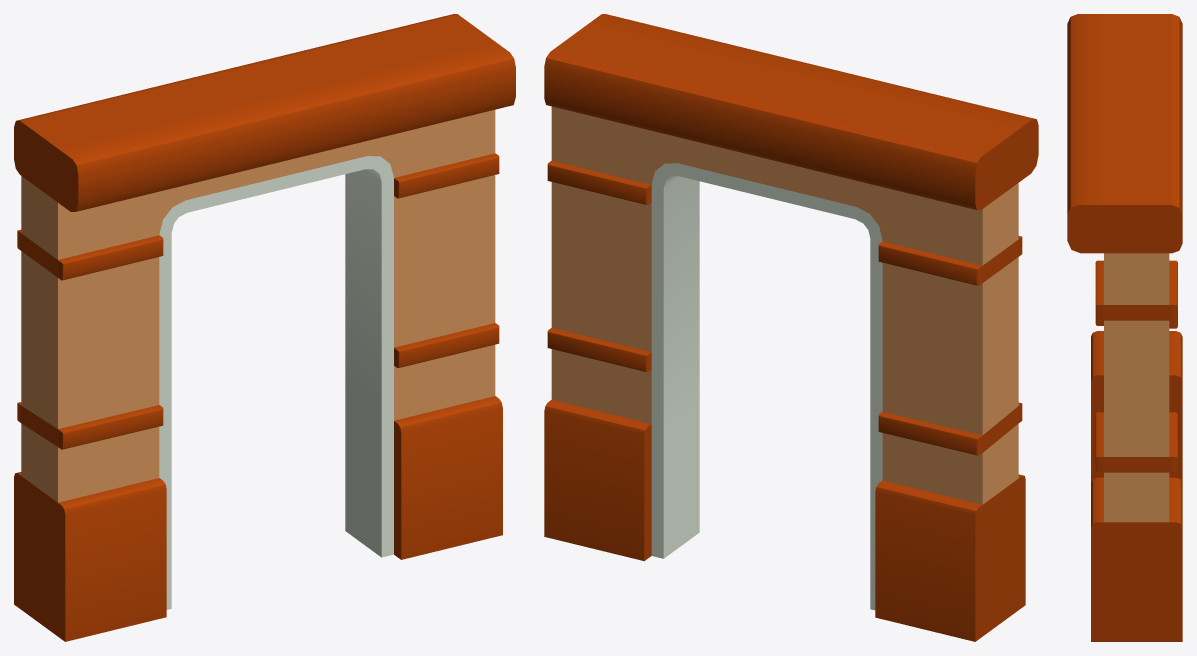
File: New_DoorWalls002.fbx
3 views of the same model, side by side, from view 1: azimuth 30°, elevation 25°; view 2: azimuth 150°, elevation 25°; view 3: azimuth 270°, elevation 25° (orthographic). The views are drawn at different scales.
Visible parts, largest first — view 1: Door.001; view 2: Door.001; view 3: Door.001.
Part boxes in pixels (bbox=[...]): Door.001: bbox=[14, 14, 515, 641]; Door.001: bbox=[544, 14, 1038, 641]; Door.001: bbox=[1067, 14, 1182, 641].
Bounding box in the file's own units: 250 × 266 × 63.58.
Materials: 1 (1 with a texture image).
